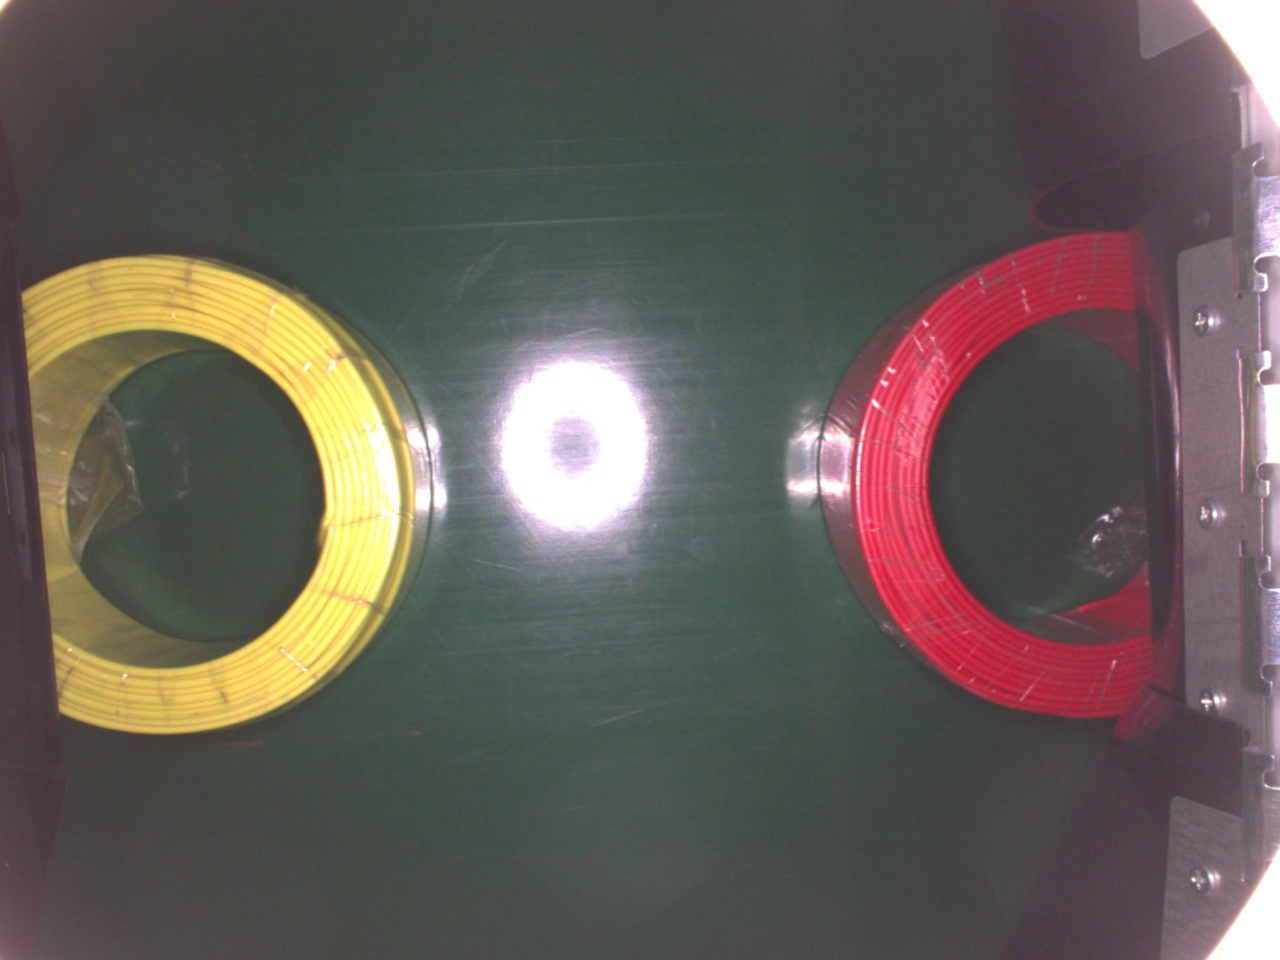red: (815, 229, 1159, 718)
yellow: (6, 251, 431, 744)
